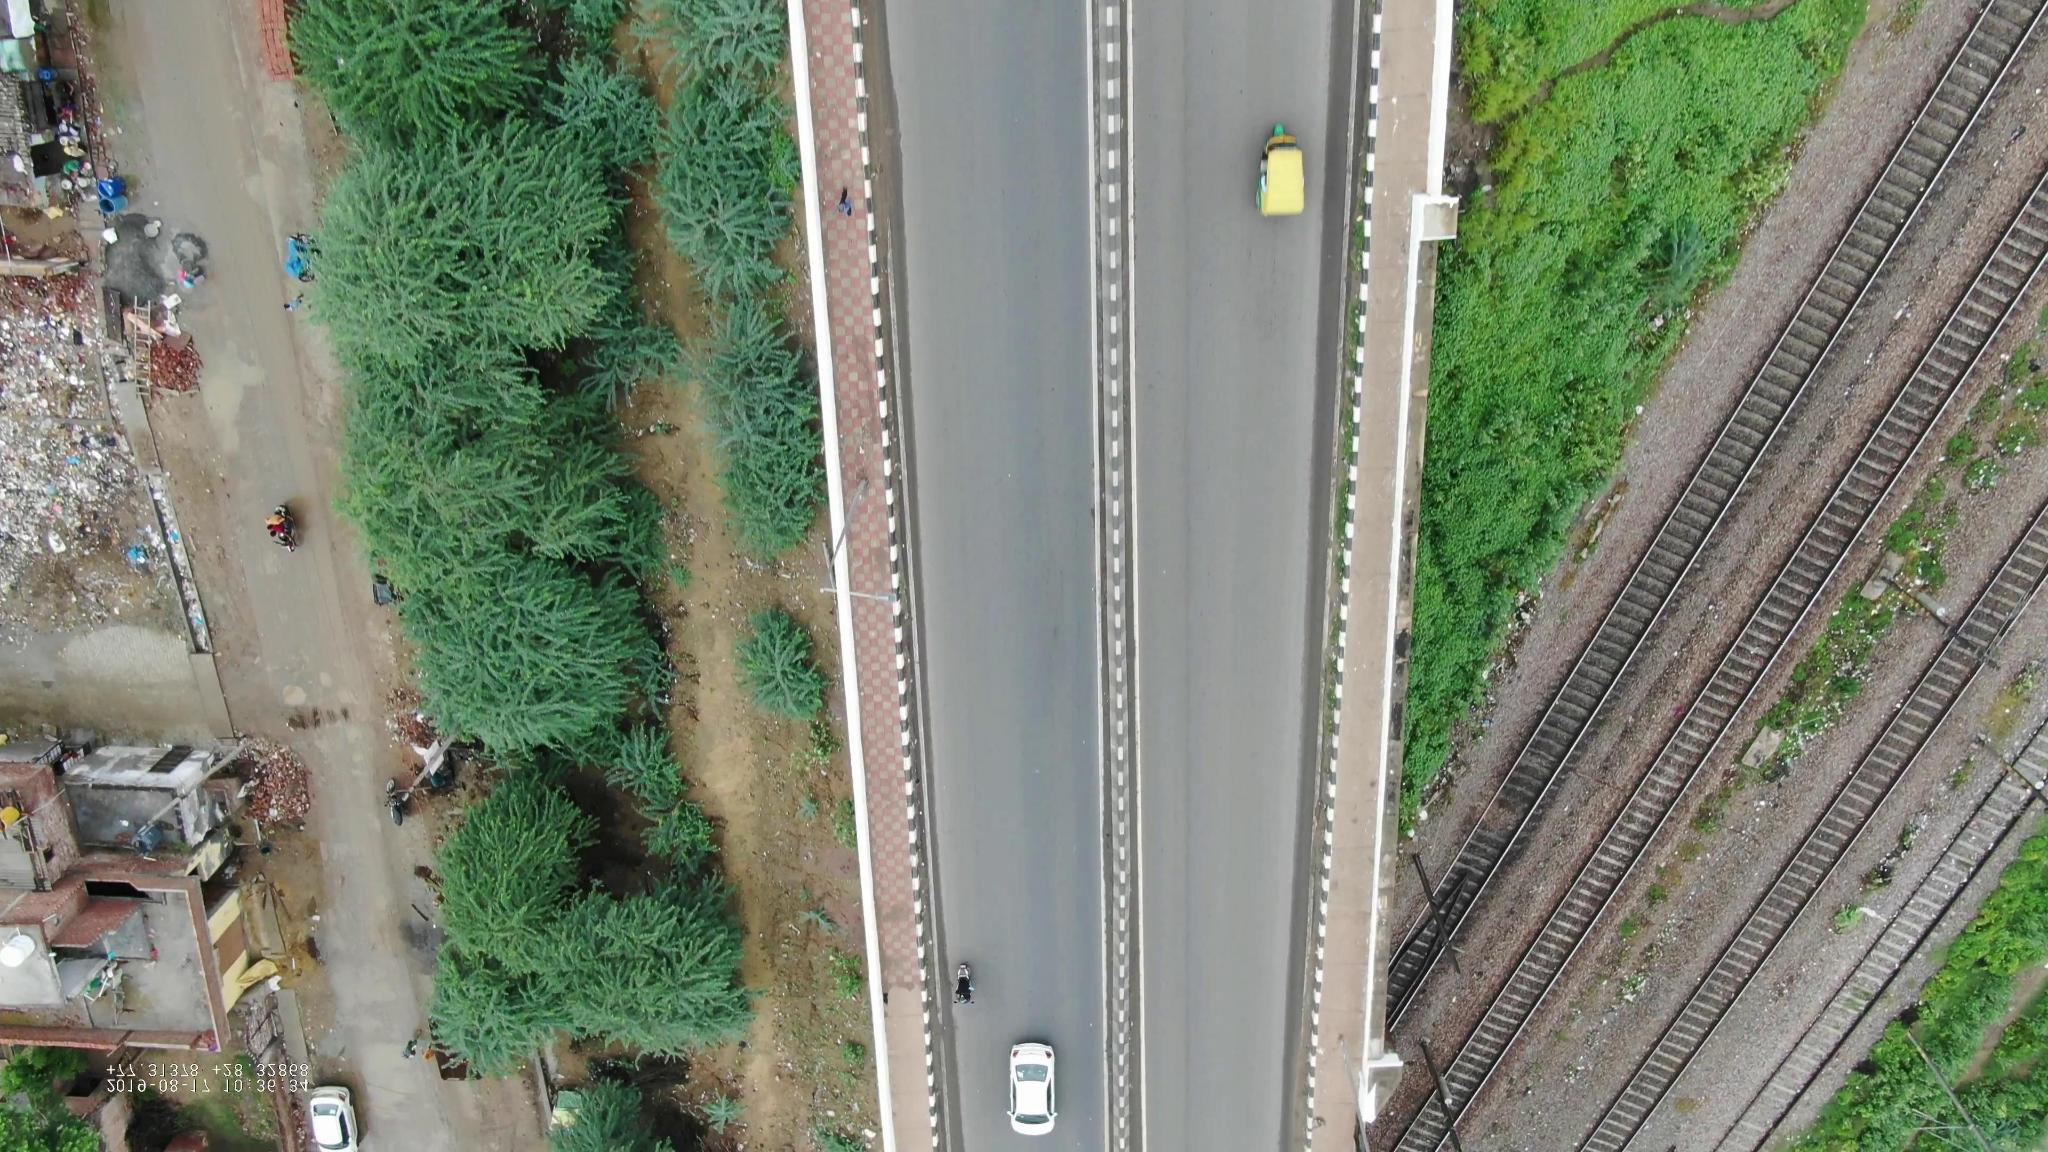Road_side_garbage: (4, 319, 107, 578)
